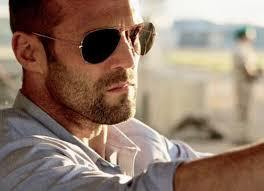sunglasses: (76, 17, 168, 65)
